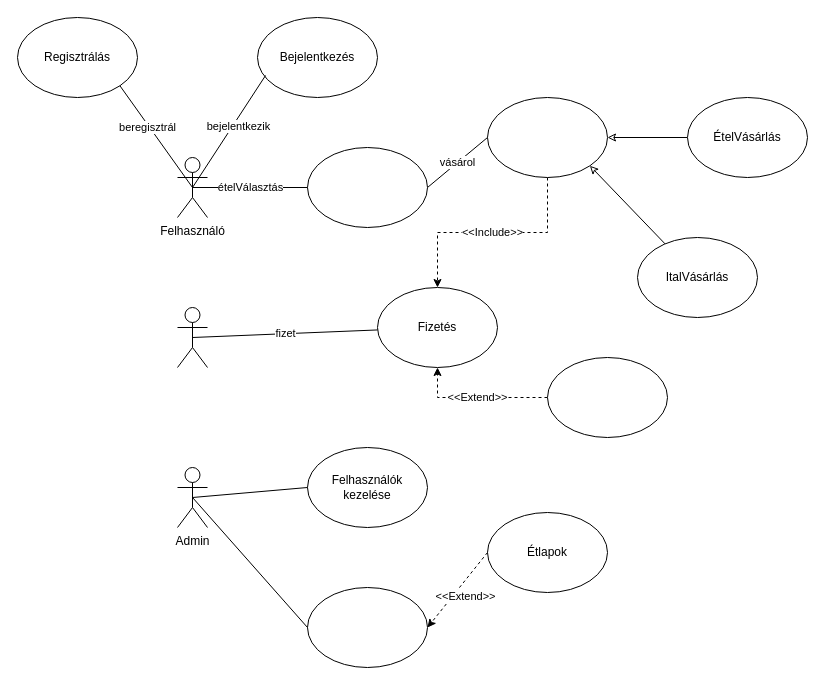
The diagram is 825 pixels wide and 685 high, and some of its shapes have lost their labels. Each missing label, with the centre of its shape:
KosárbaHelyezés: the point at 367,187
Számla: the point at 607,397
Vásárlás: the point at 547,137
Étterem: the point at 192,337
Éttermek kezelése: the point at 367,627
